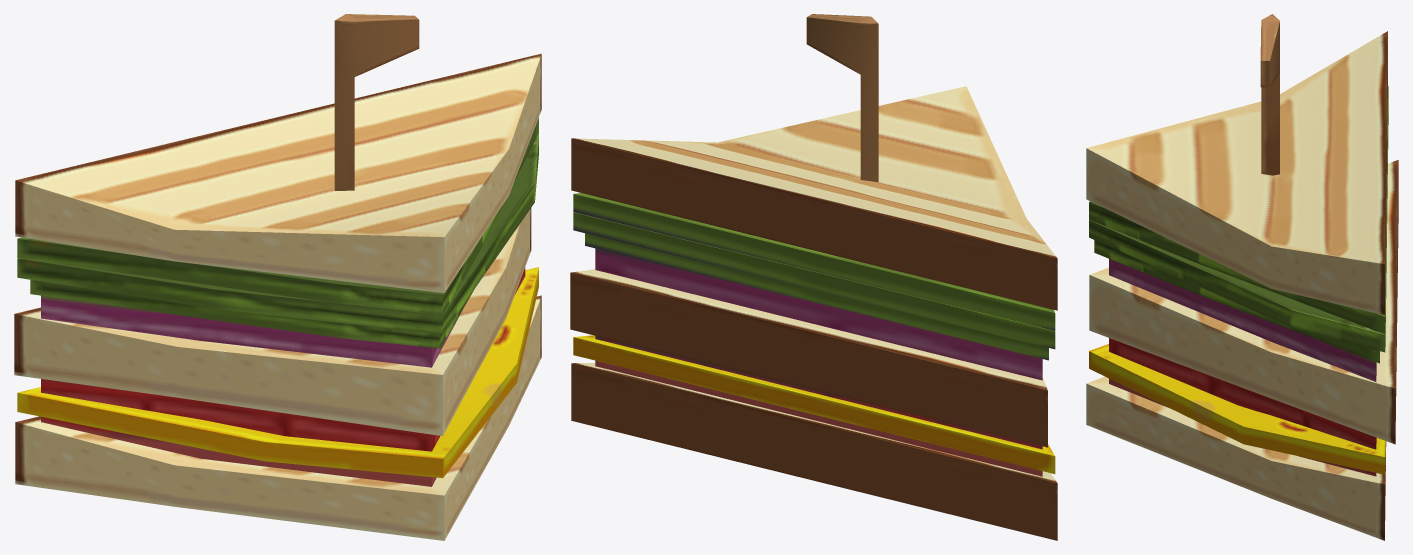
File: sandwich.FBX
3 views of the same model, side by side, from view 1: azimuth 30°, elevation 25°; view 2: azimuth 150°, elevation 25°; view 3: azimuth 270°, elevation 25° (orthographic). The views are drawn at different scales.
Parts seen in each view (by area): view 1: sandwich; view 2: sandwich; view 3: sandwich.
Part boxes in pixels (x1,y1,x2,y2): sandwich: (14,14,541,540); sandwich: (570,14,1057,540); sandwich: (1086,14,1398,540).
Bounding box in the file's own units: 5.77 × 4.7 × 3.27.
